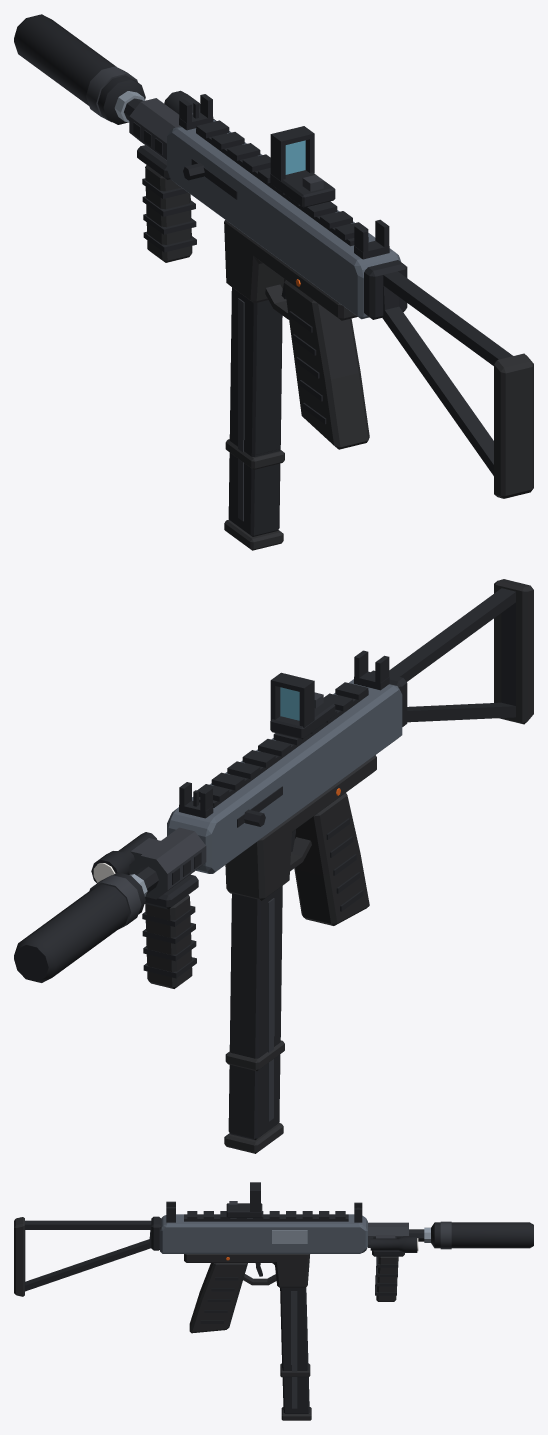
Rendered from smg.glb.
3 views of the same model, one above another, from view 1: azimuth 30°, elevation 25°; view 2: azimuth 150°, elevation 25°; view 3: azimuth 270°, elevation 25° (orthographic). The views are drawn at different scales.
Parts seen in each view (by area): view 1: Body, Att_ExtMag, Att_Suppressor, Mag, Att_Grip, Att_Scope; view 2: Body, Att_ExtMag, Att_Suppressor, Att_Grip, Att_Scope, Mag, Att_Flashlight; view 3: Body, Att_ExtMag, Att_Suppressor, Att_Grip, Att_Scope, Att_Flashlight, Mag.
Part boxes in pixels (left/top/right/bottom): Body: left=114, top=91, right=533, bottom=498; Att_ExtMag: left=224, top=287, right=283, bottom=550; Att_Suppressor: left=14, top=14, right=145, bottom=124; Mag: left=225, top=298, right=284, bottom=469; Att_Grip: left=137, top=145, right=196, bottom=262; Att_Scope: left=270, top=126, right=335, bottom=207; Body: left=129, top=579, right=533, bottom=925; Att_ExtMag: left=224, top=890, right=283, bottom=1153; Att_Suppressor: left=14, top=872, right=145, bottom=982; Att_Grip: left=142, top=874, right=198, bottom=988; Att_Scope: left=270, top=672, right=335, bottom=739; Mag: left=225, top=886, right=284, bottom=1071; Att_Flashlight: left=91, top=832, right=160, bottom=882; Body: left=14, top=1201, right=430, bottom=1333; Att_ExtMag: left=281, top=1287, right=311, bottom=1420; Att_Suppressor: left=431, top=1221, right=533, bottom=1249; Att_Grip: left=372, top=1250, right=404, bottom=1301; Att_Scope: left=226, top=1182, right=262, bottom=1217; Att_Flashlight: left=370, top=1235, right=418, bottom=1252; Mag: left=280, top=1288, right=310, bottom=1377.
Size of the model in its own units: 0.0784 by 0.3705 by 0.758.
